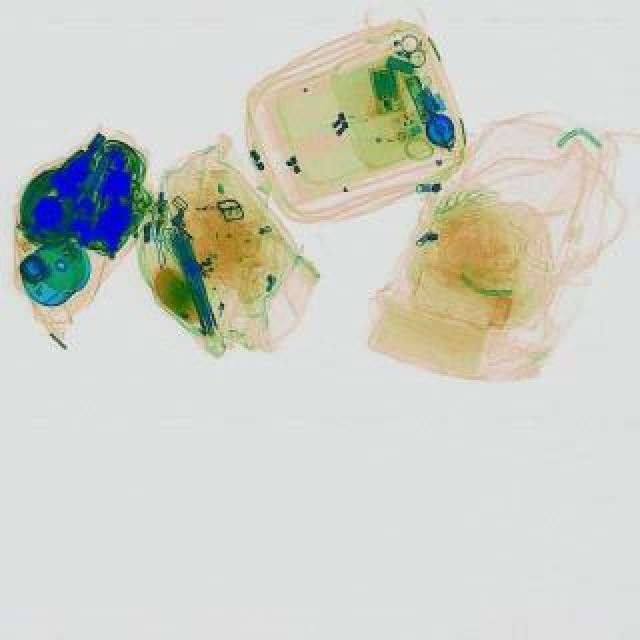scissors: (72, 144, 124, 220)
